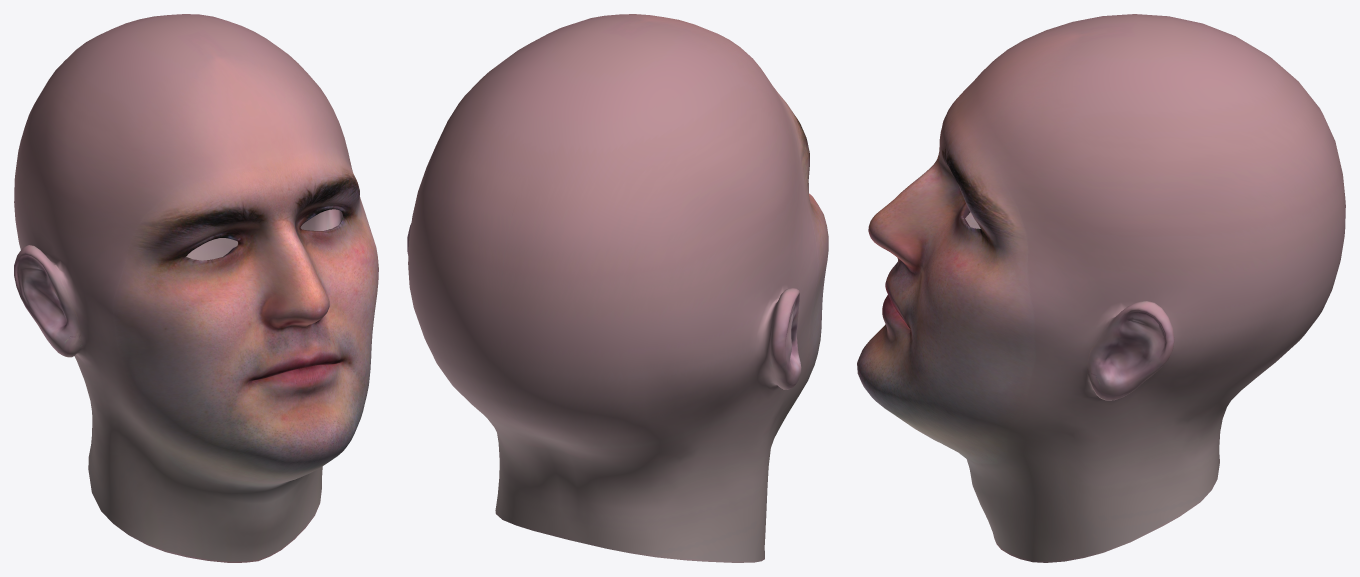
3 renders of one model, left to right at view 1: azimuth 30°, elevation 25°; view 2: azimuth 150°, elevation 25°; view 3: azimuth 270°, elevation 25°, orthographic. The views are drawn at different scales.
Parts seen in each view (by area): view 1: FaceGen; view 2: FaceGen; view 3: FaceGen.
Part boxes in pixels (bbox=[...]): FaceGen: bbox=[14, 14, 378, 562]; FaceGen: bbox=[407, 14, 828, 562]; FaceGen: bbox=[857, 14, 1345, 562].
Bounding box in the file's own units: 199 × 278 × 242.
Materials: 1 (1 with a texture image).
